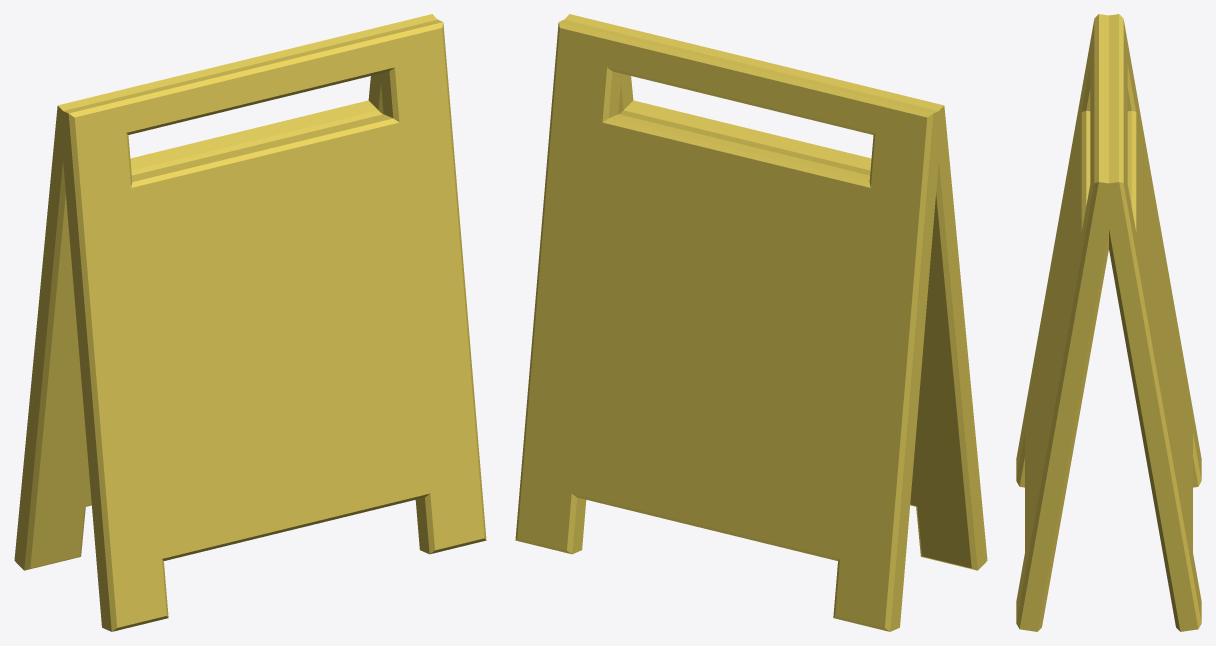
Rendered from CautionWetFloor_UVed.fbx.
3 renders of one model, left to right at view 1: azimuth 30°, elevation 25°; view 2: azimuth 150°, elevation 25°; view 3: azimuth 270°, elevation 25°, orthographic. The views are drawn at different scales.
Visible parts, largest first — view 1: pCube29; view 2: pCube29; view 3: pCube29.
Boxes of the visible parts, left/top/right/bottom form: pCube29: left=14, top=14, right=486, bottom=631; pCube29: left=515, top=14, right=987, bottom=631; pCube29: left=1016, top=14, right=1201, bottom=631.
Bounding box in the file's own units: 1 × 1.25 × 0.4663.
